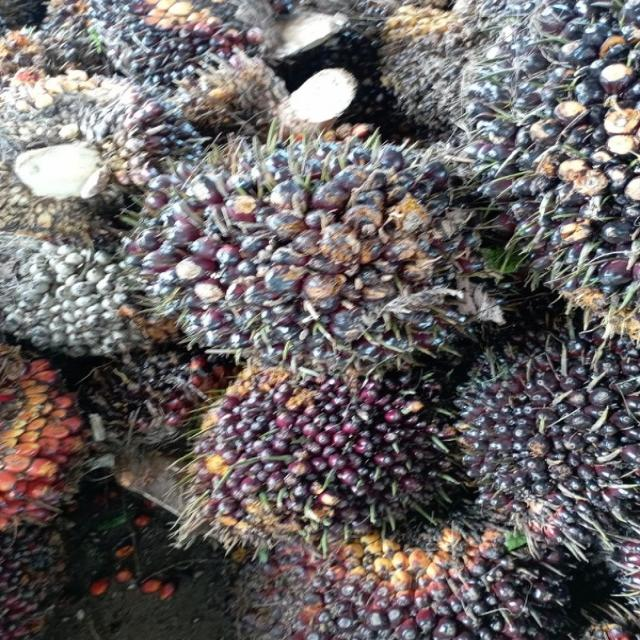fraksi 00: (154, 143, 468, 341), (452, 1, 640, 324), (432, 323, 640, 534), (74, 0, 264, 91)
fraksi 1: (186, 347, 440, 542)
